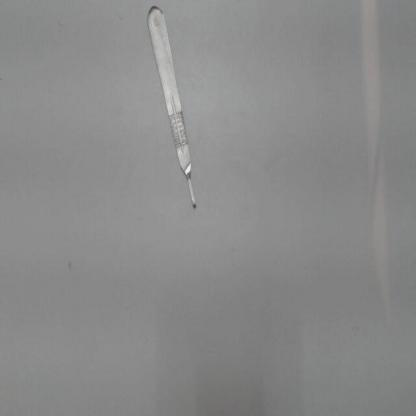No.3 BP Handle: (135, 1, 213, 223)
